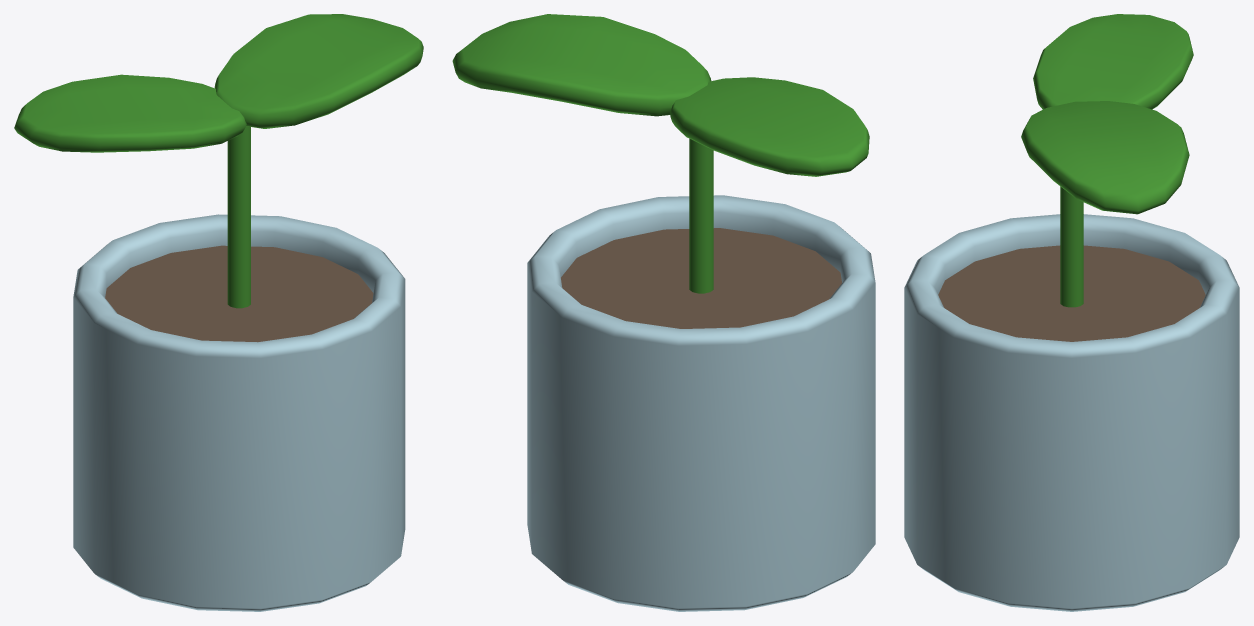
File: Plant_17.glb
The picture shows the model from 3 angles, left to right: view 1: azimuth 30°, elevation 25°; view 2: azimuth 150°, elevation 25°; view 3: azimuth 270°, elevation 25°; orthographic projection. The views are drawn at different scales.
Visible parts, largest first — view 1: Plant_17; view 2: Plant_17; view 3: Plant_17.
Part boxes in pixels (bbox=[...]): Plant_17: bbox=[14, 14, 423, 611]; Plant_17: bbox=[452, 14, 875, 611]; Plant_17: bbox=[904, 14, 1239, 611].
Size of the model in its own units: 0.3349 by 0.3775 by 0.2496.
Materials: 1 (1 with a texture image).
